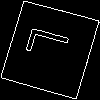L: (25, 24, 80, 64)
